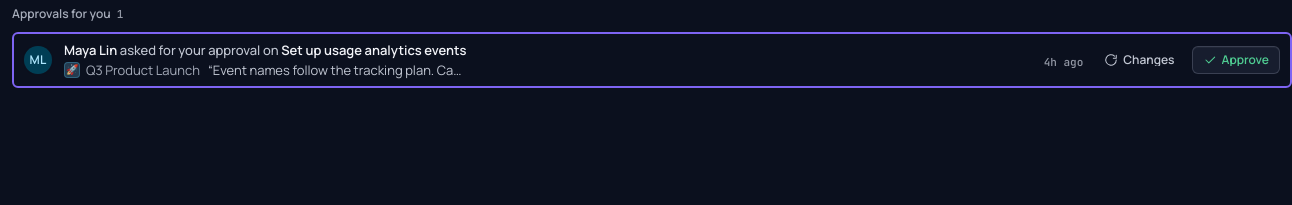
Test: ApprovalsInboxGroup › C, type, Escape, then A approves with no comment (the draft stays behind)
Press c in the button that starts with "Maya Lin", box [64,40,1032,60]
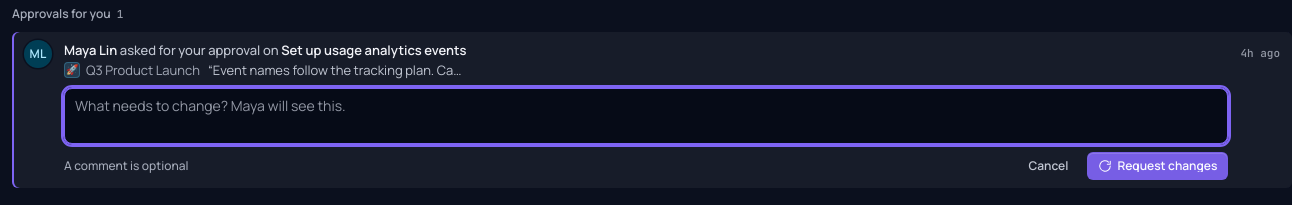
Type "The header colour is wrong" into the text box at {"x": 646, "y": 116}, box [64,88,1228,144]
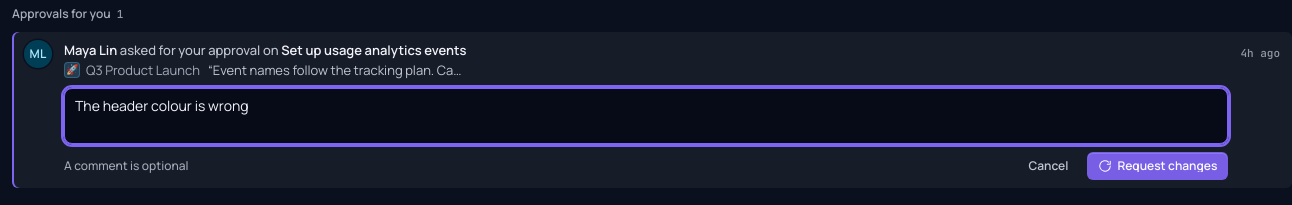
Press Escape in the text box, box [64,88,1228,144]
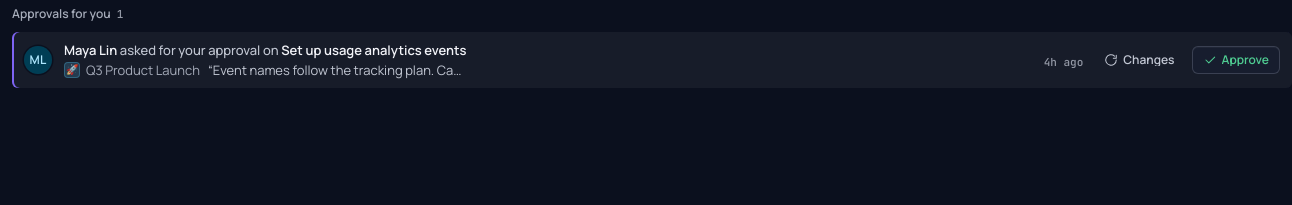
Press a in the button that starts with "Maya Lin", box [64,40,1032,60]
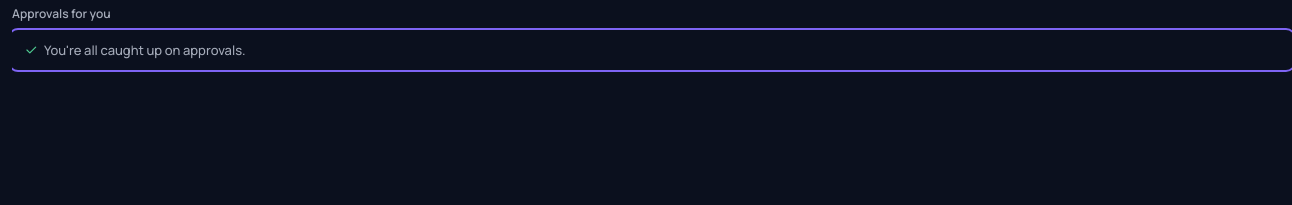
expect the text "You're all caught up on approvals." is shown: met, box [24,41,246,59]
